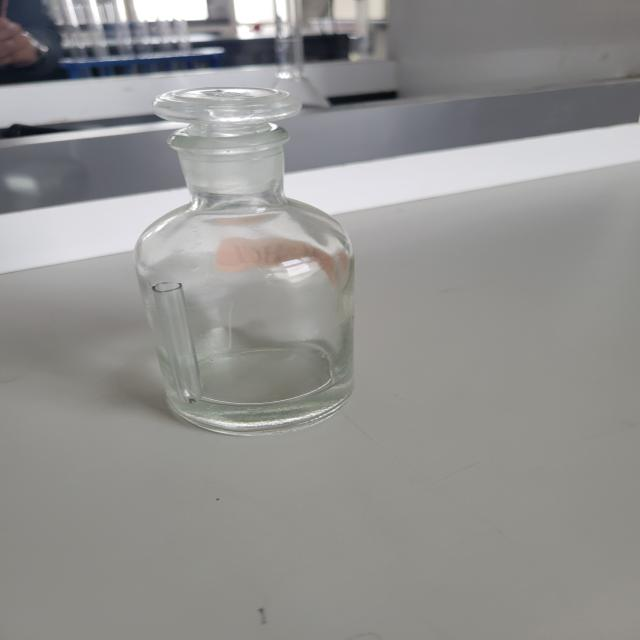Reagent_Bottle: (109, 40, 436, 455)
